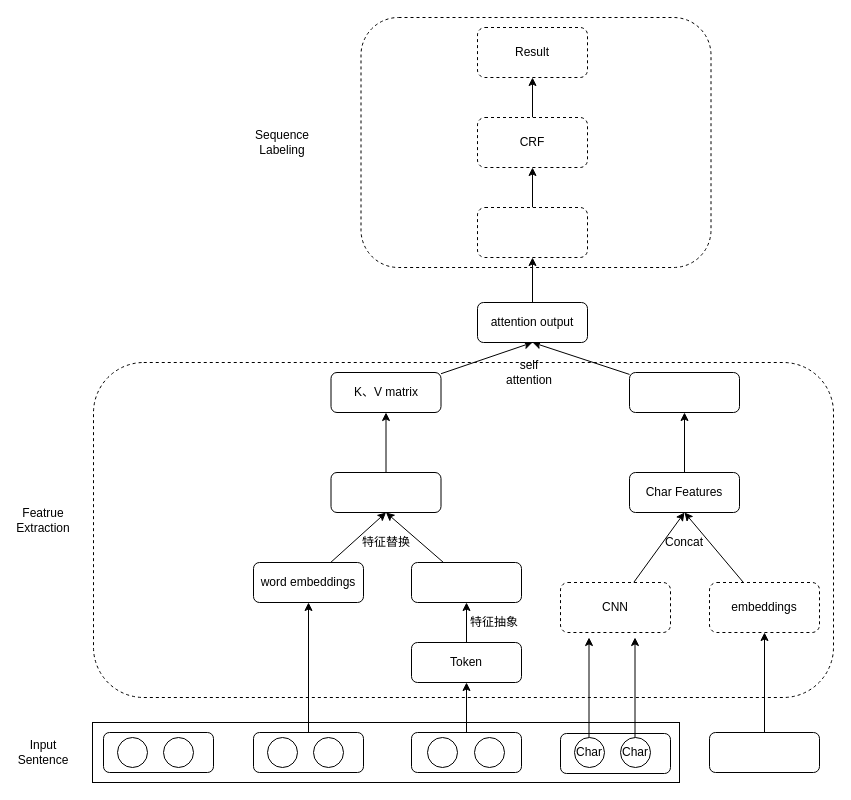
Image size: 851x800. Some labels were removed from this diagram. The centre of each missing label's shape, as x and y in pixels:
"Bilstm" goes at point (532, 232).
"Intent" goes at point (764, 752).
"Q matrix" goes at point (684, 392).
"Token Feature" goes at point (466, 582).
"word features" goes at point (385, 492).
